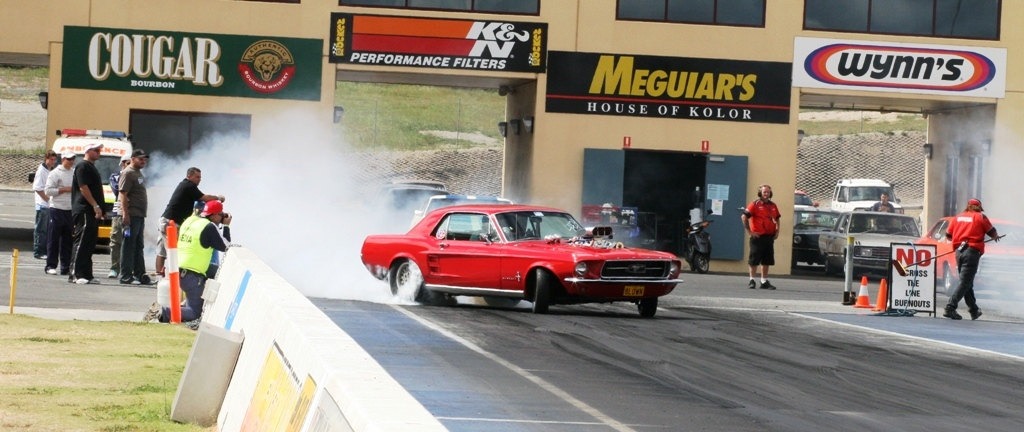Car: (357, 202, 684, 309), (817, 208, 922, 277), (792, 203, 846, 272), (369, 187, 446, 235)
